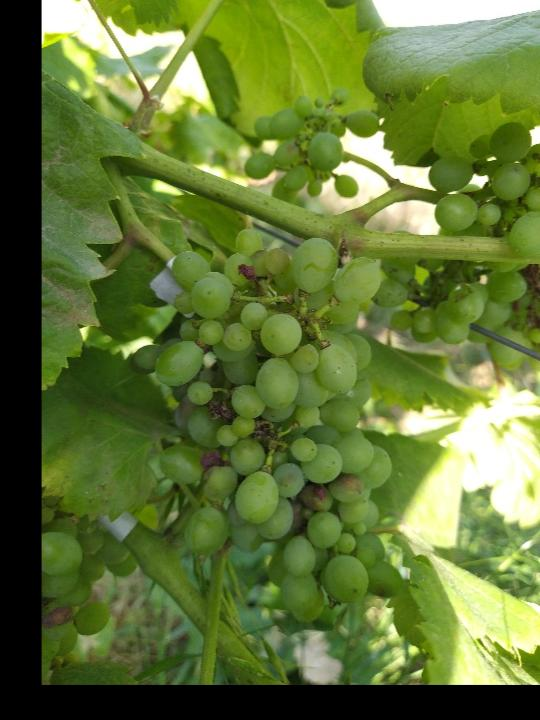grape: (130, 227, 409, 630), (378, 121, 540, 371), (242, 89, 385, 205)
